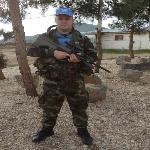Senapan: (28, 27, 113, 79)
